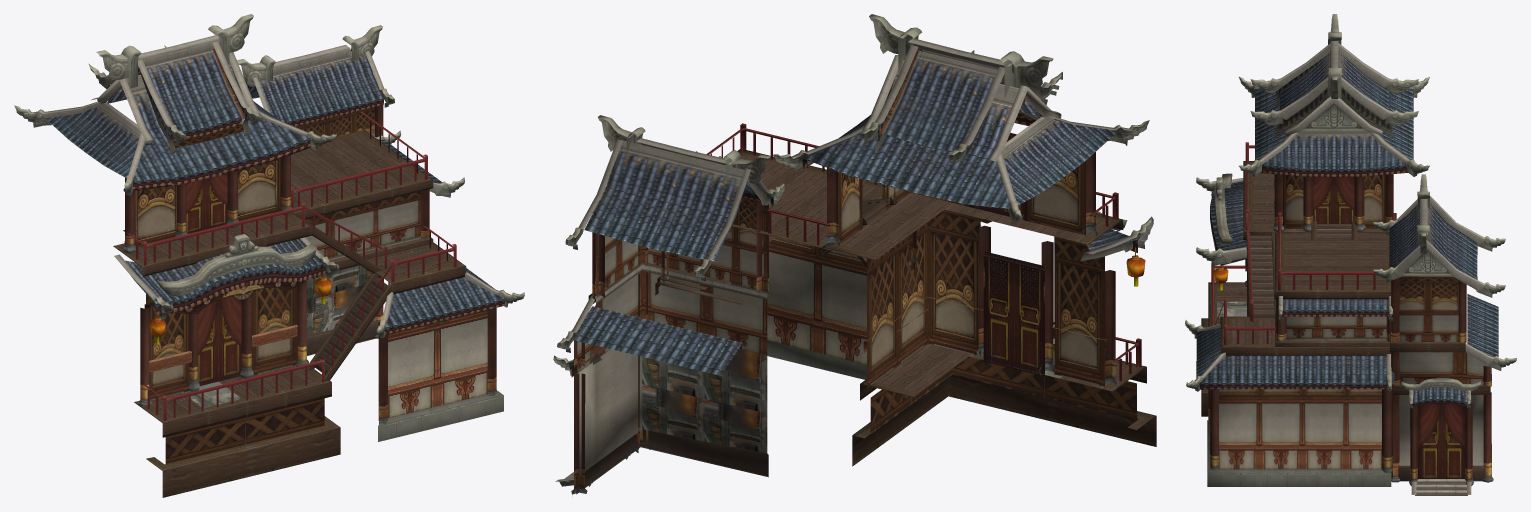
The model's file is cj_luoyang_minju04_55_45_2240out.fbx.
The picture shows the model from 3 angles, left to right: view 1: azimuth 30°, elevation 25°; view 2: azimuth 150°, elevation 25°; view 3: azimuth 270°, elevation 25°; orthographic projection. The views are drawn at different scales.
Visible parts, largest first — view 1: 0000_cj_luoyang_minju04, 0001_cj_luoyang_minju04; view 2: 0000_cj_luoyang_minju04, 0001_cj_luoyang_minju04; view 3: 0000_cj_luoyang_minju04, 0001_cj_luoyang_minju04.
Part boxes in pixels (box(x1,y1,x2,y2)): 0000_cj_luoyang_minju04: box(14, 14, 524, 463); 0001_cj_luoyang_minju04: box(113, 111, 466, 497); 0000_cj_luoyang_minju04: box(553, 14, 1153, 494); 0001_cj_luoyang_minju04: box(571, 123, 1156, 494); 0000_cj_luoyang_minju04: box(1185, 14, 1516, 495); 0001_cj_luoyang_minju04: box(1201, 142, 1490, 481).
Size of the model in its own units: 10.17 by 10.15 by 9.
